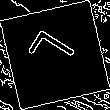L_SE: (26, 29, 84, 81)
